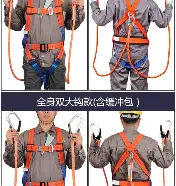safety belt: (22, 3, 70, 75), (110, 2, 154, 71), (104, 135, 158, 185), (23, 129, 70, 183)
